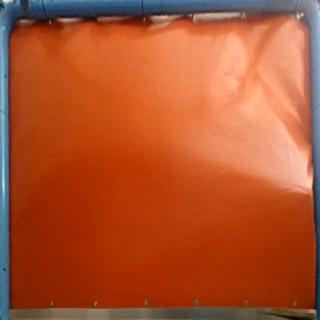Hit-hRxx: (302, 185, 320, 203)
